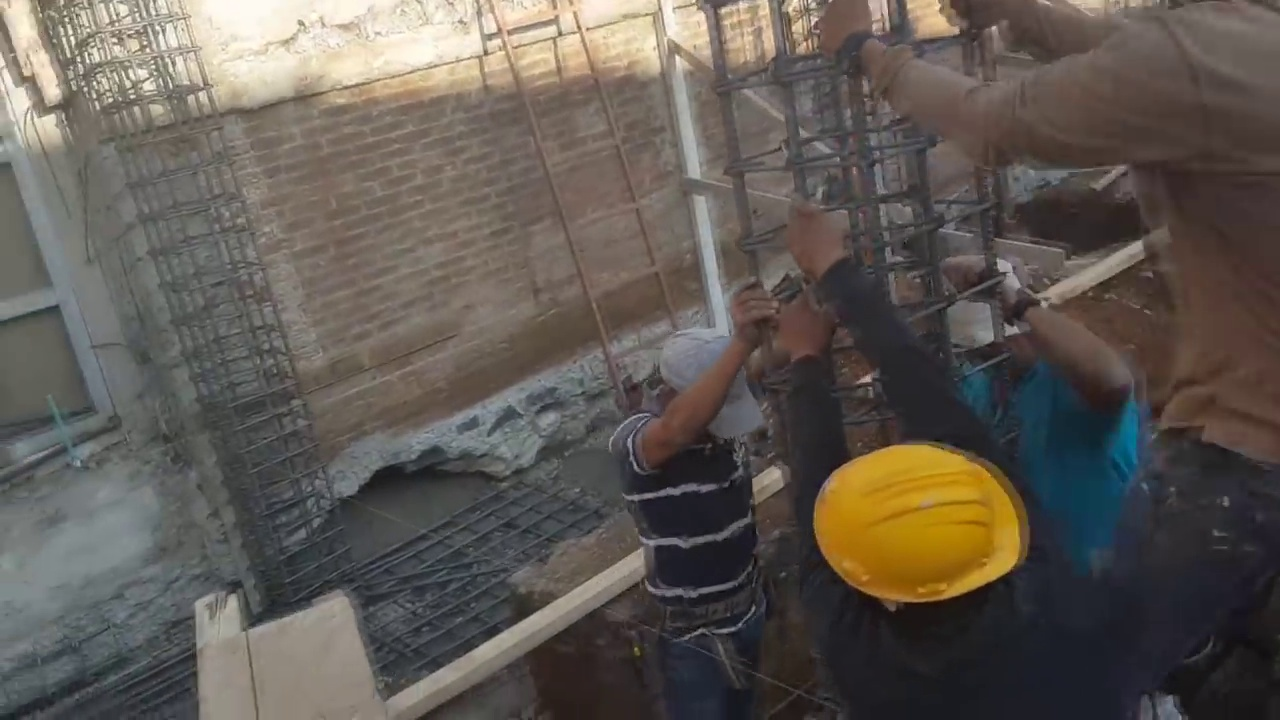helmet: (802, 438, 1030, 624)
helmet-off: (642, 326, 768, 456), (936, 249, 1045, 395)
helmet-on: (807, 432, 1038, 675)
person: (812, 0, 1280, 596), (764, 202, 1196, 720), (607, 280, 784, 720), (924, 251, 1153, 587)
